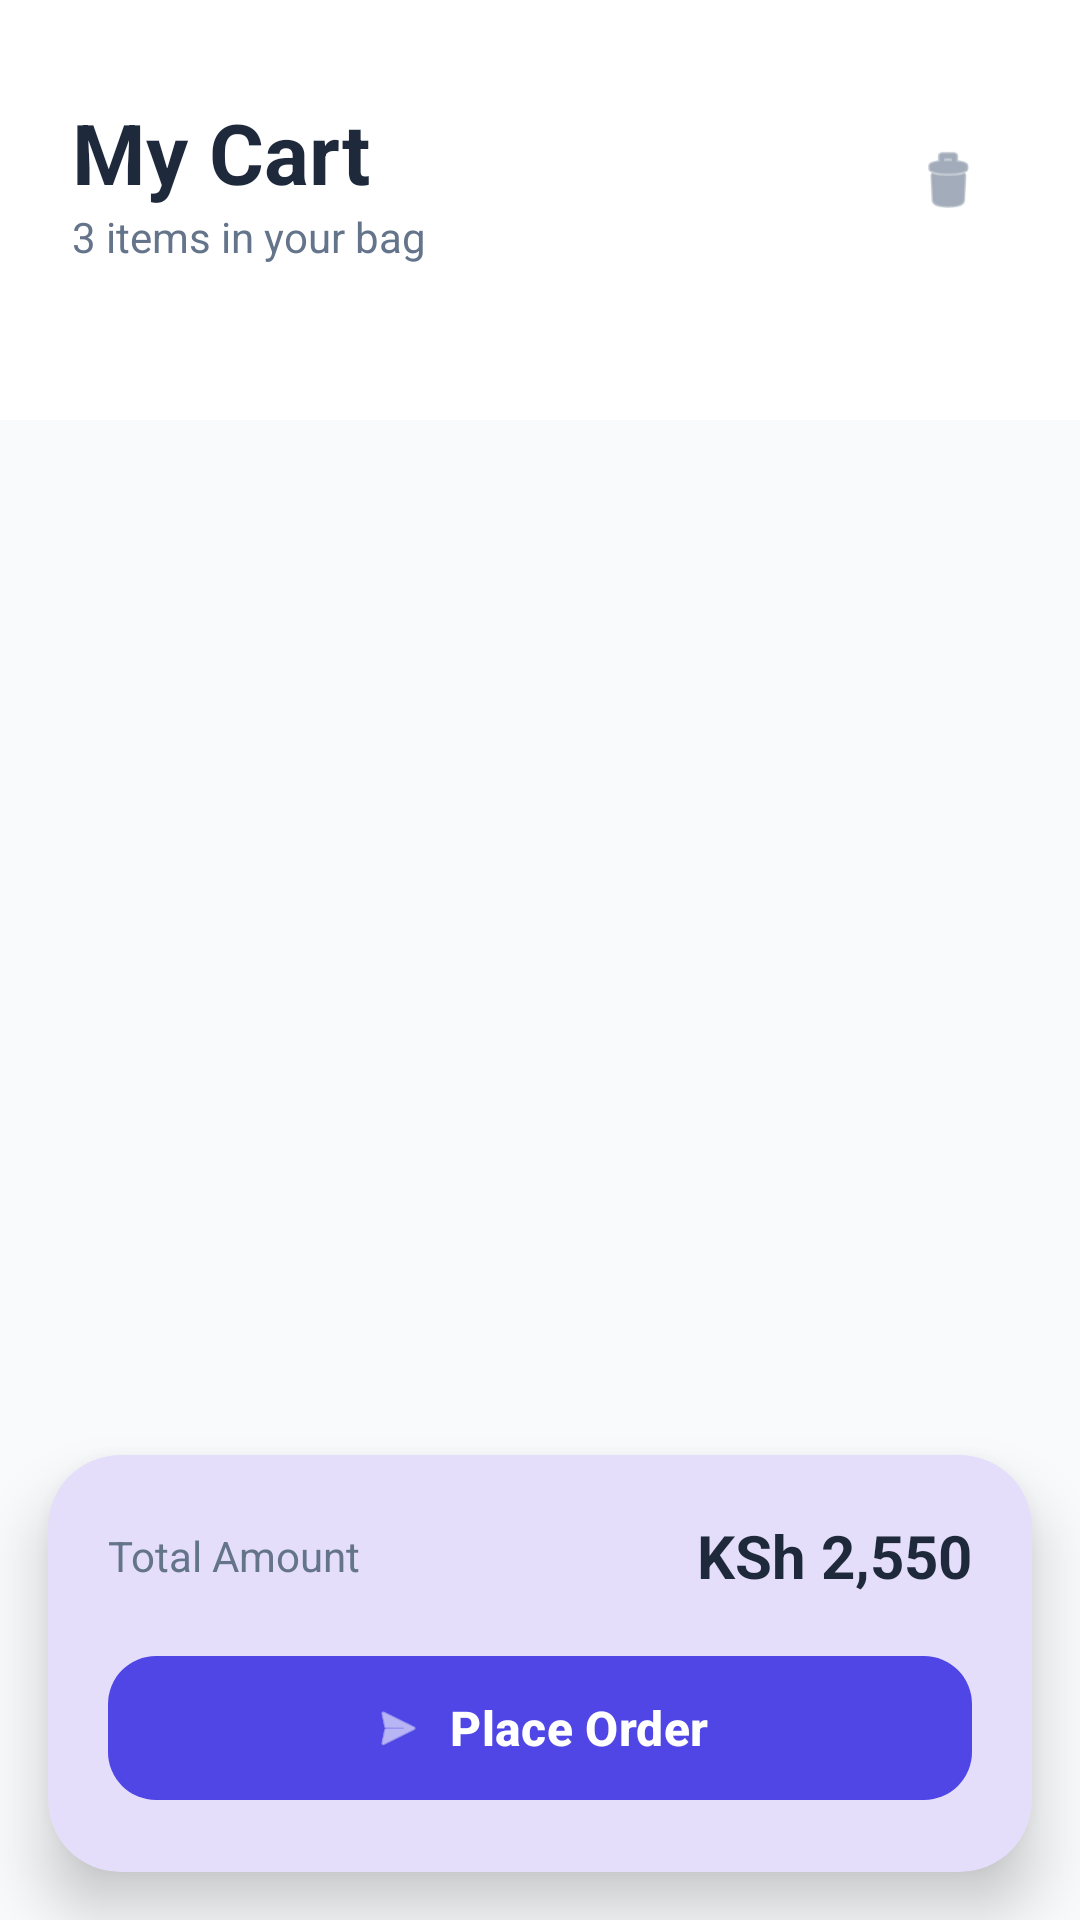

Point at icon controls on the screen. Image size 1080x1920, points as [x,y].
delete: [948,180]
